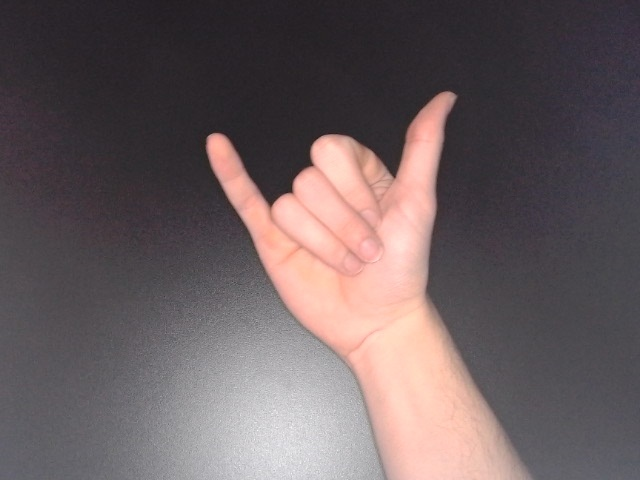y: (193, 84, 466, 371)
